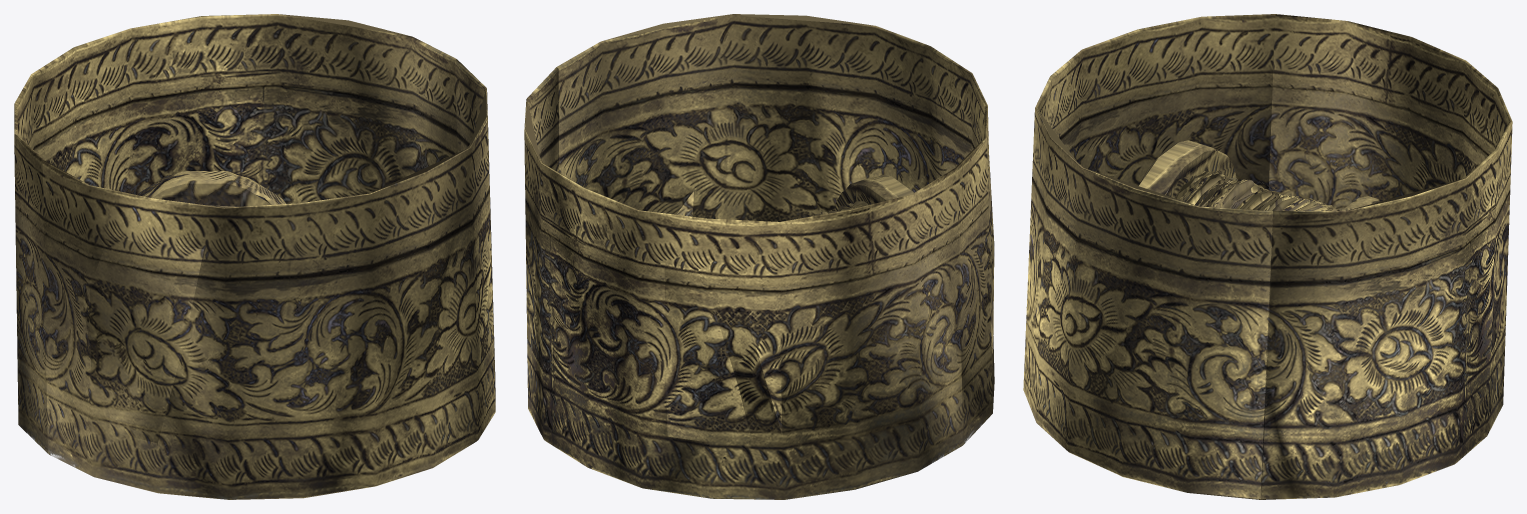
Rendered from sewing_kit_model.fbx.
The picture shows the model from 3 angles, left to right: view 1: azimuth 30°, elevation 25°; view 2: azimuth 150°, elevation 25°; view 3: azimuth 270°, elevation 25°; orthographic projection. The views are drawn at different scales.
Parts seen in each view (by area): view 1: Cylinder002__0; view 2: Cylinder002__0; view 3: Cylinder002__0.
Boxes of the visible parts, x1,y1,x2,y2 form: Cylinder002__0: (14,14,495,499); Cylinder002__0: (524,14,994,499); Cylinder002__0: (1023,14,1512,499).
Bounding box in the file's own units: 2.41 × 2.49 × 1.68.
